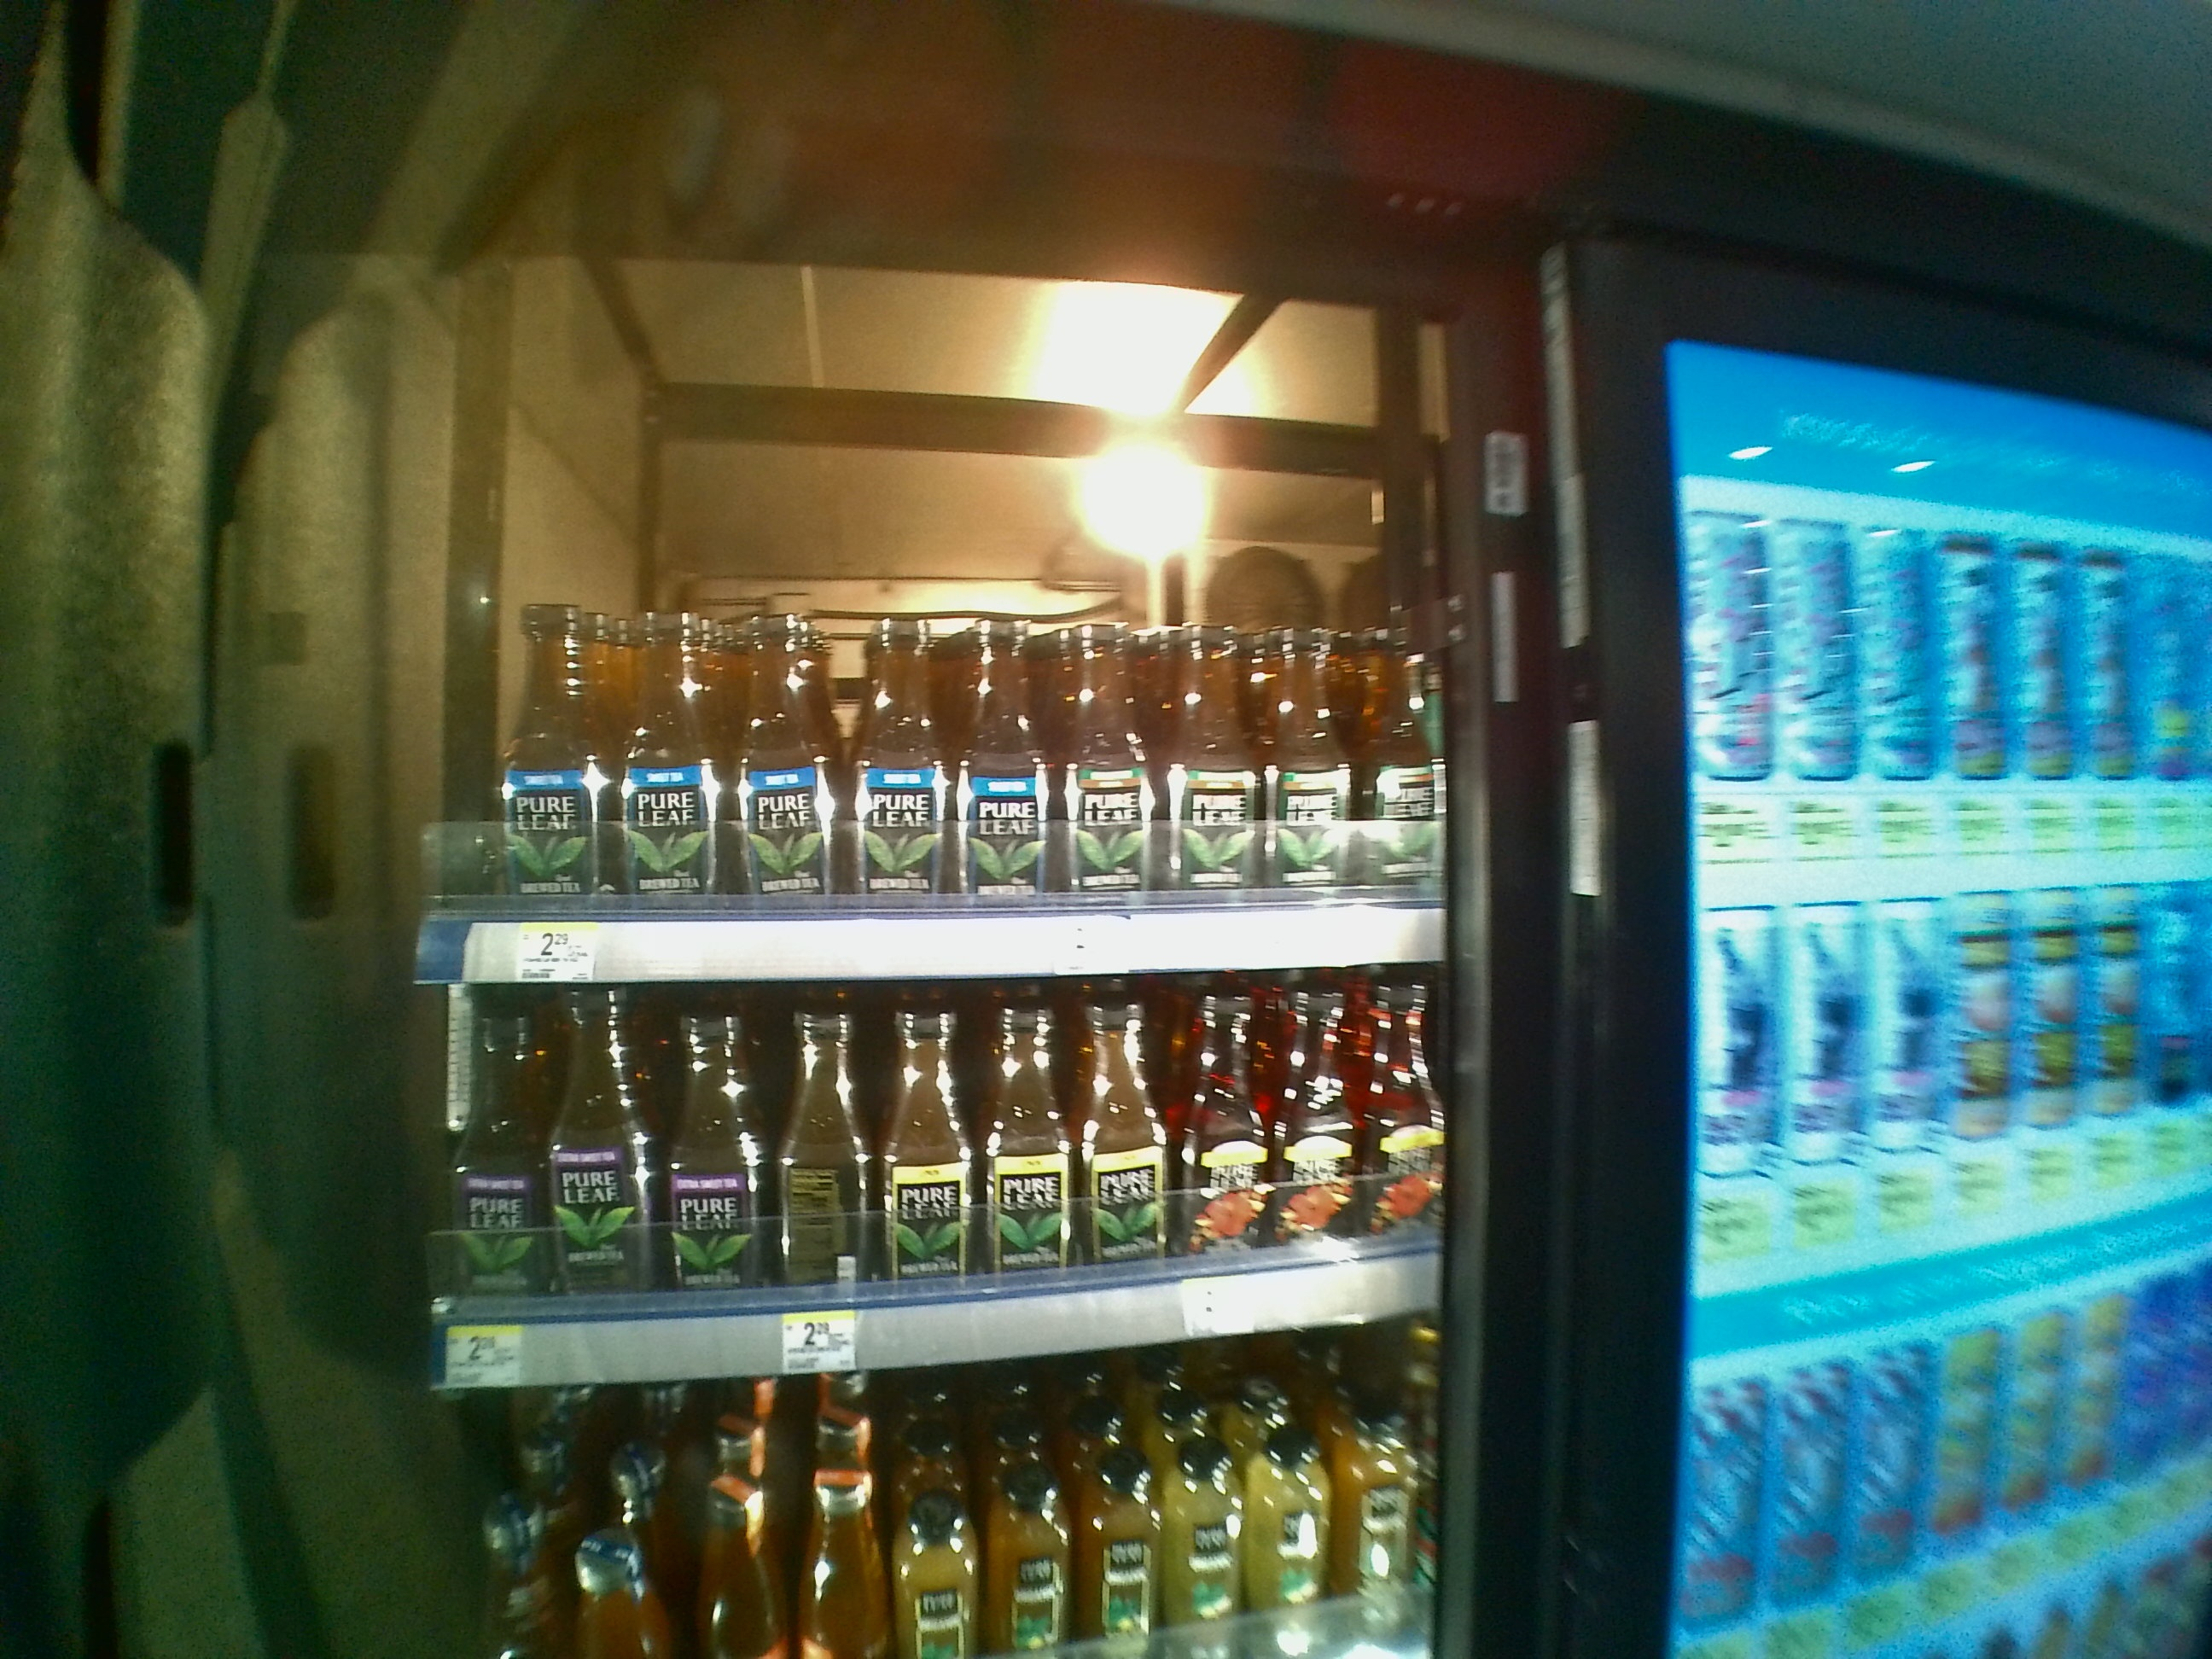shelf: (421, 317, 1446, 988), (416, 990, 1456, 1391)
